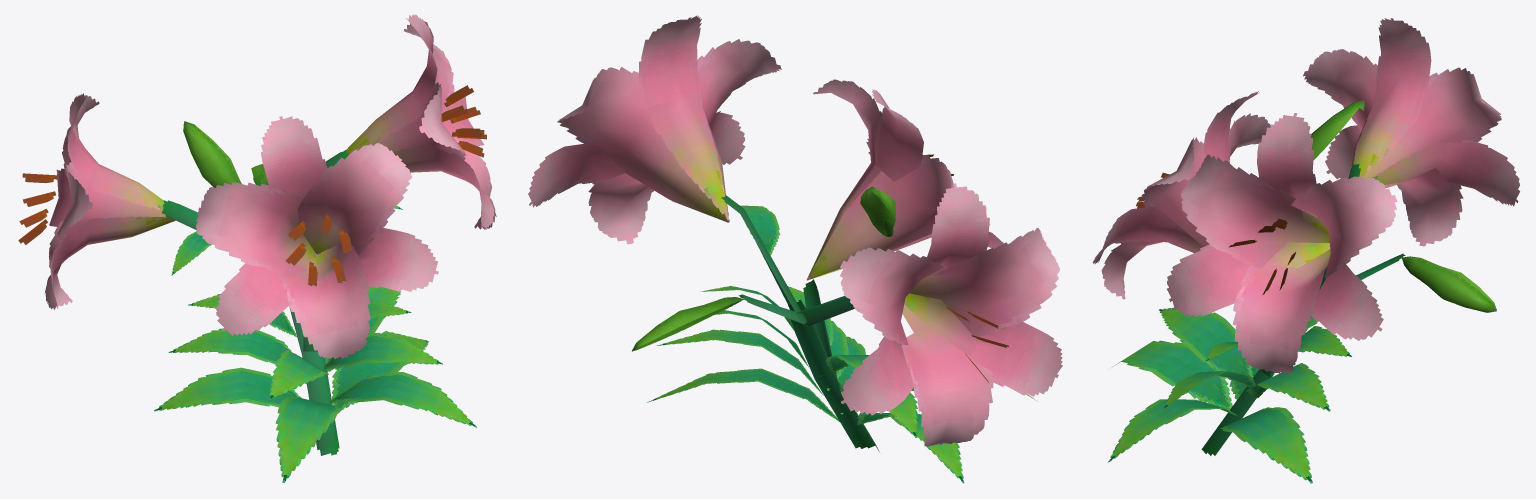
The model's file is pink-lilies.glb.
3 views of the same model, side by side, from view 1: azimuth 30°, elevation 25°; view 2: azimuth 150°, elevation 25°; view 3: azimuth 270°, elevation 25° (orthographic). The views are drawn at different scales.
Bounding box in the file's own units: 9.48 × 7.92 × 7.59.
Materials: 2 (2 with a texture image).
